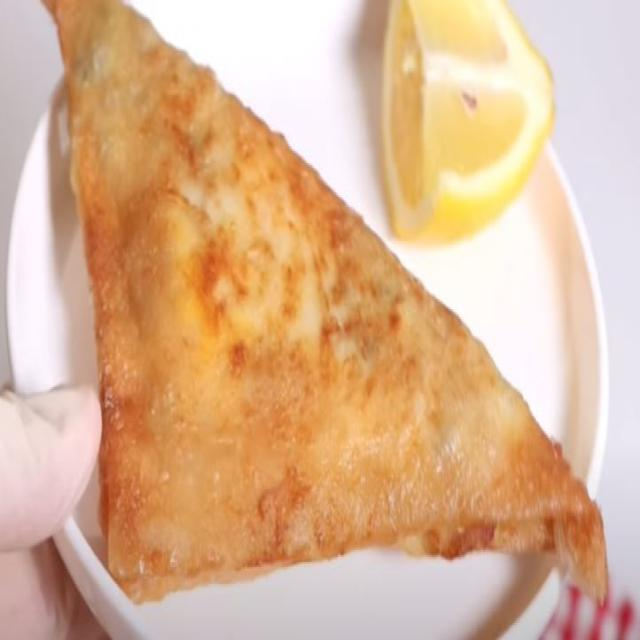brik: (65, 19, 629, 606)
